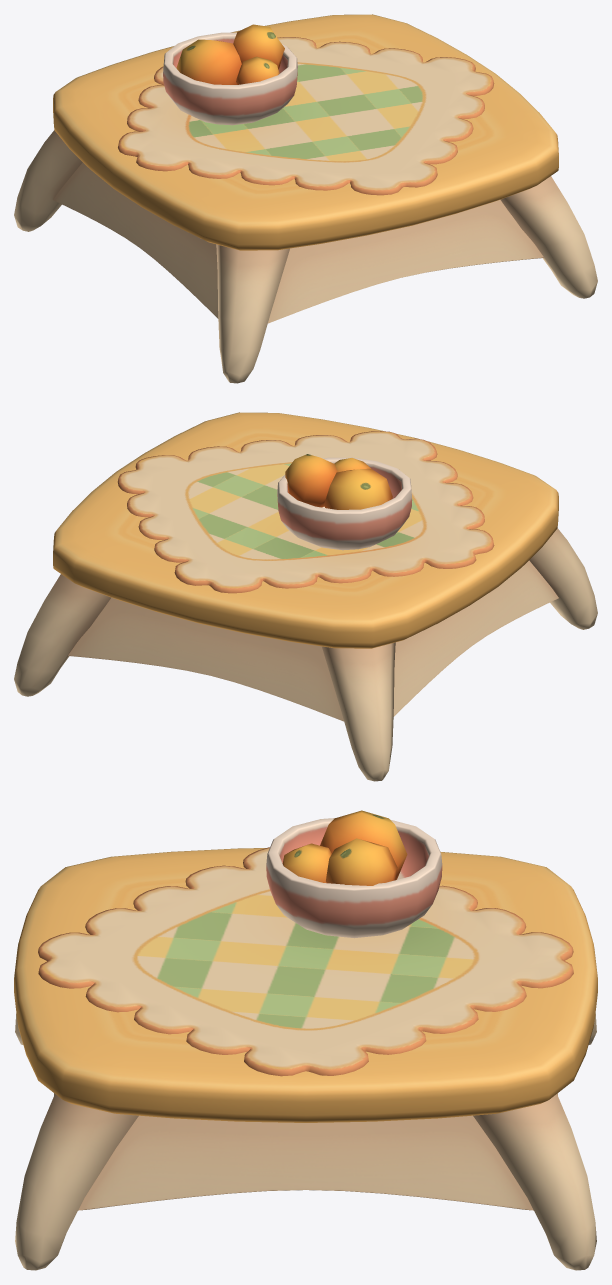
Rendered from table.fbx.
3 views of the same model, one above another, from view 1: azimuth 30°, elevation 25°; view 2: azimuth 150°, elevation 25°; view 3: azimuth 270°, elevation 25° (orthographic). The views are drawn at different scales.
Visible parts, largest first — view 1: Plane, Plane.002, Cube.007, Cube, Cube.003, Cube.004, Cube.006, Cube.005; view 2: Plane, Plane.002, Cube.007, Cube, Cube.003, Cube.004, Cube.006; view 3: Plane, Plane.002, Cube.007, Cube, Cube.003, Cube.006, Cube.004, Cube.005.
Part boxes in pixels (box(x1,y1,x2,y2)): Plane: box(53, 14, 558, 250); Plane.002: box(118, 37, 494, 195); Cube.007: box(53, 162, 543, 323); Cube: box(14, 130, 597, 383); Cube.003: box(163, 32, 297, 125); Cube.004: box(176, 39, 241, 84); Cube.006: box(233, 24, 284, 69); Cube.005: box(236, 56, 279, 84); Plane: box(53, 412, 558, 648); Plane.002: box(117, 431, 494, 593); Cube.007: box(68, 560, 558, 721); Cube: box(14, 528, 597, 781); Cube.003: box(277, 457, 411, 550); Cube.004: box(324, 468, 392, 509); Cube.006: box(285, 454, 337, 507); Plane: box(14, 848, 597, 1122); Plane.002: box(38, 847, 573, 1076); Cube.007: box(54, 1093, 557, 1210); Cube: box(15, 1013, 596, 1270); Cube.003: box(266, 818, 442, 938); Cube.006: box(326, 838, 397, 885); Cube.004: box(320, 810, 407, 879); Cube.005: box(282, 843, 331, 882).
Size of the model in its own units: 87.18 by 48.85 by 87.18.
Materials: 1 (1 with a texture image).
